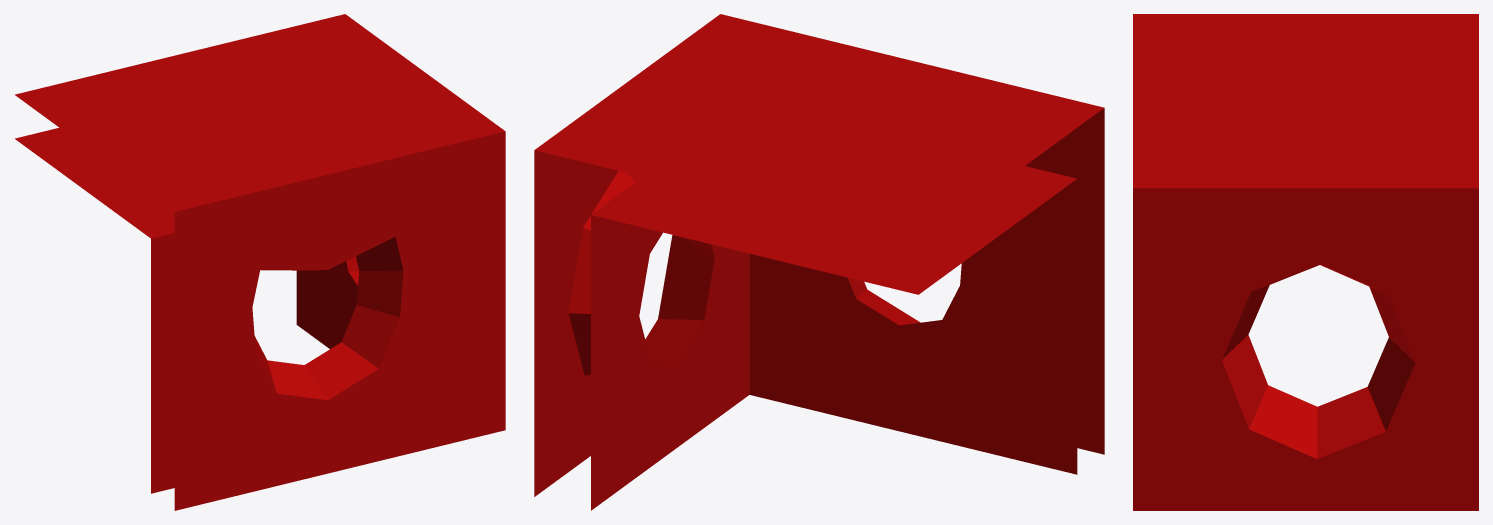
File: SM_BoxCat.fbx
3 views of the same model, side by side, from view 1: azimuth 30°, elevation 25°; view 2: azimuth 150°, elevation 25°; view 3: azimuth 270°, elevation 25° (orthographic). The views are drawn at different scales.
Visible parts, largest first — view 1: SM_BoxCat; view 2: SM_BoxCat; view 3: SM_BoxCat.
Boxes of the visible parts, left/top/right/bottom form: SM_BoxCat: left=15, top=14, right=505, bottom=510; SM_BoxCat: left=534, top=14, right=1104, bottom=510; SM_BoxCat: left=1133, top=14, right=1478, bottom=510.
Size of the model in its own units: 35.27 by 30.45 by 29.59.
